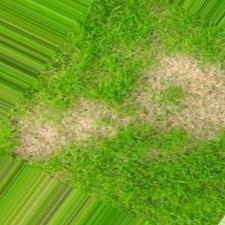patch: (37, 111, 93, 151), (96, 94, 143, 135), (152, 55, 205, 85), (180, 91, 212, 134)
